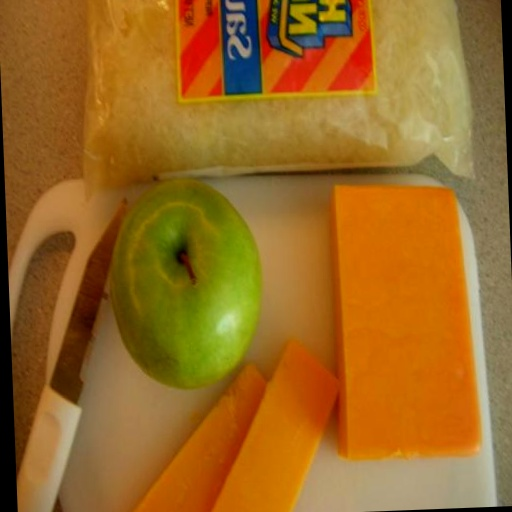fruit: (111, 180, 260, 387)
